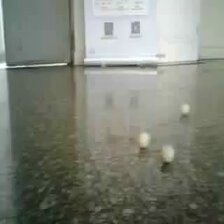tennis: (159, 171, 196, 220), (92, 94, 112, 121), (22, 72, 38, 95), (134, 66, 148, 84)
